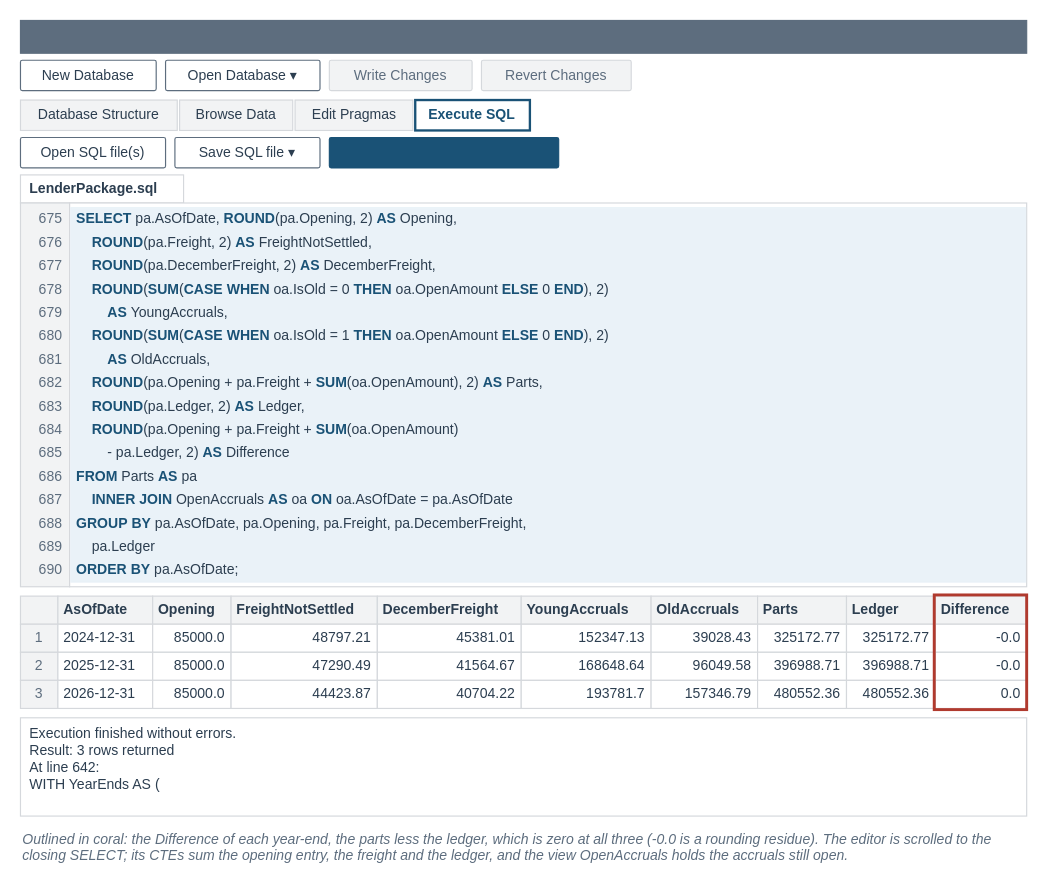
Some shapes in this 1048 by 890 pixel diagram are drawn without their labels. The shapes that lost their labels are listed below. From the top down, each one's centre as x and y in pixels, then its label:
the point at 523,36: DB Browser for SQLite - C:\Users\you\Documents\CharlesRiver_Capstone.sqlite
the point at 443,152: ▶ Execute all/selected SQL
